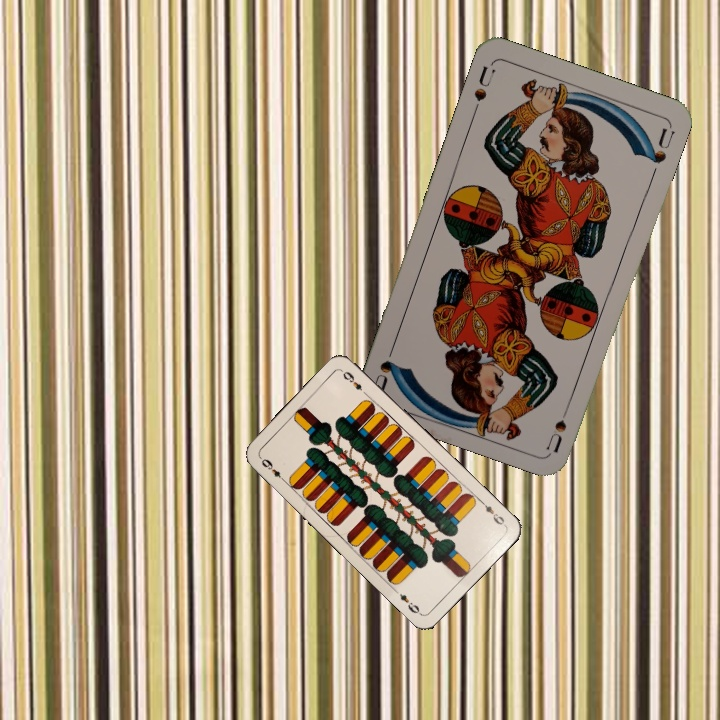E9: (476, 496, 508, 529), (256, 453, 288, 485)
SU: (542, 396, 575, 454), (469, 61, 497, 117)
